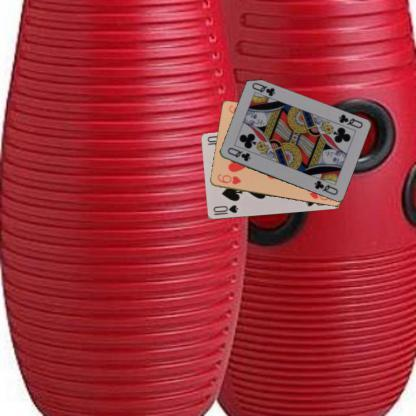10s: (210, 202, 240, 217)
6h: (215, 172, 242, 186)
Qc: (224, 145, 252, 163), (336, 112, 363, 130)
